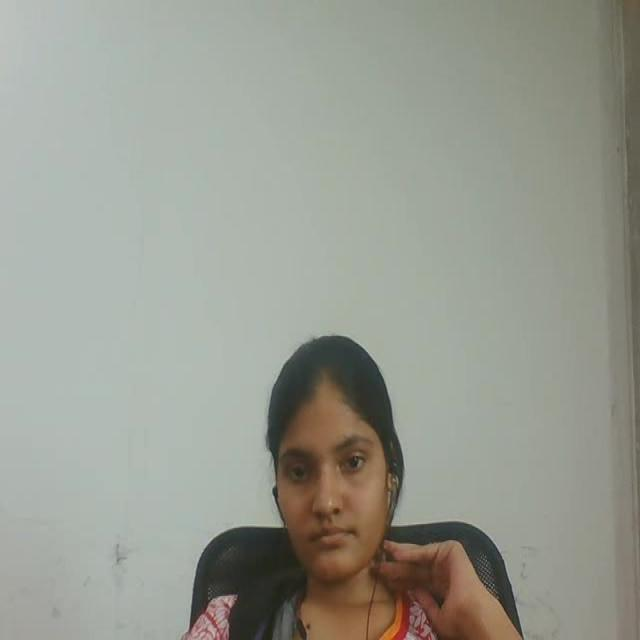Engaged: (208, 295, 434, 604)
